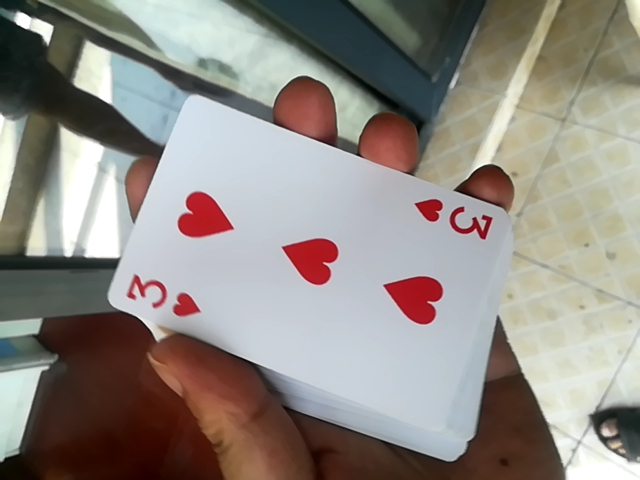hx 3: (69, 89, 506, 478)
